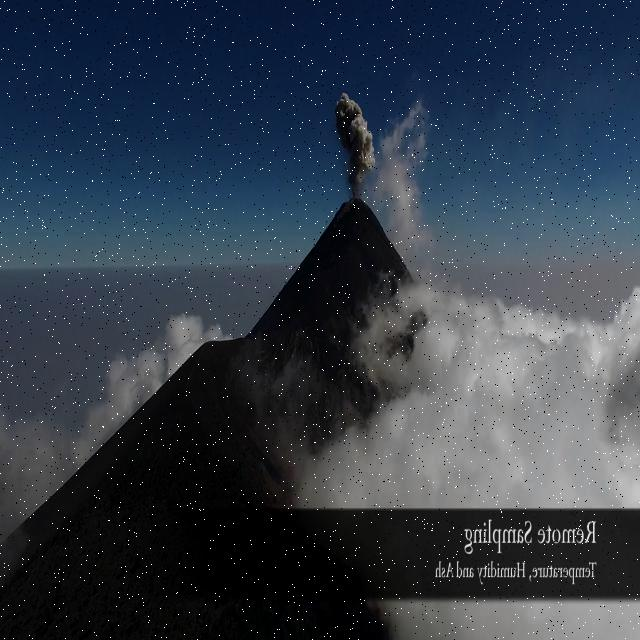Plume: (326, 86, 380, 195)
Summit: (310, 196, 394, 241)
